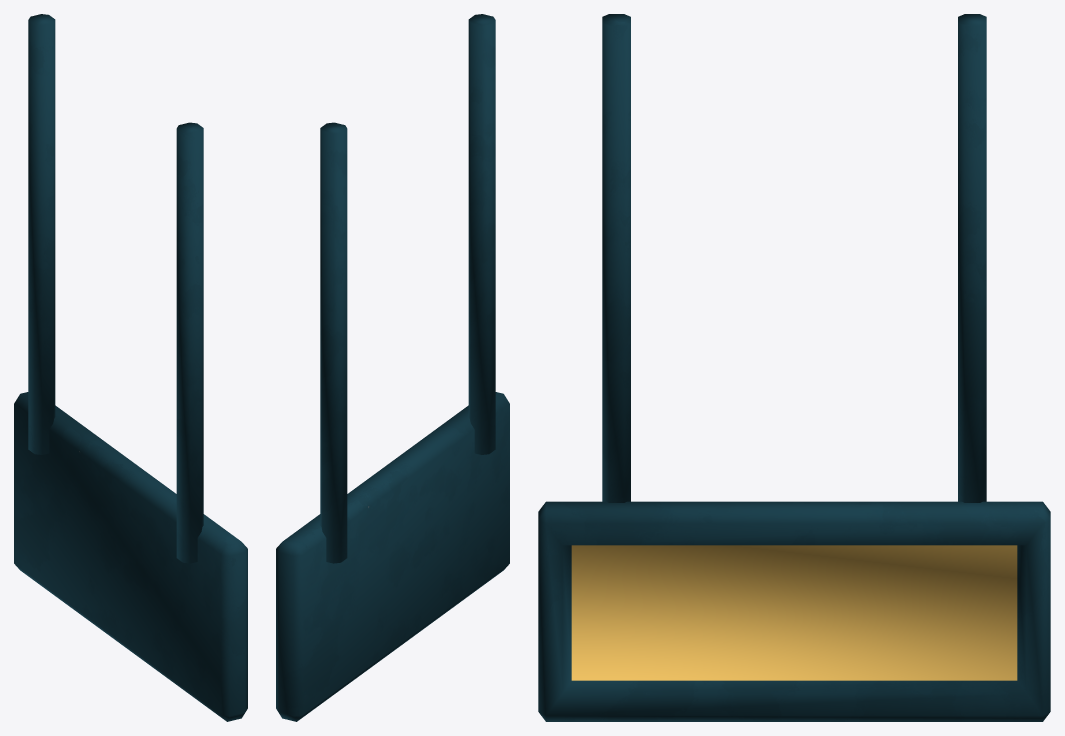
Rendered from billboard_small.fbx.
3 renders of one model, left to right at view 1: azimuth 30°, elevation 25°; view 2: azimuth 150°, elevation 25°; view 3: azimuth 270°, elevation 25°, orthographic. The views are drawn at different scales.
Visible parts, largest first — view 1: Cube; view 2: Cube; view 3: Cube.
Boxes of the visible parts, x1,y1,x2,y2 form: Cube: [14, 14, 247, 721]; Cube: [276, 14, 509, 721]; Cube: [538, 14, 1050, 721].
Bounding box in the file's own units: 60.37 × 576 × 855.
1 material, 1 textured.
